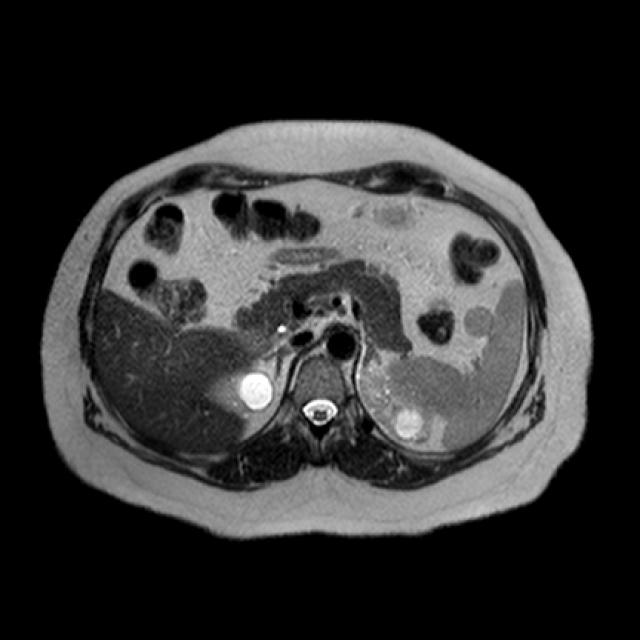sag: (208, 372, 275, 413)
sol: (358, 368, 432, 444)
